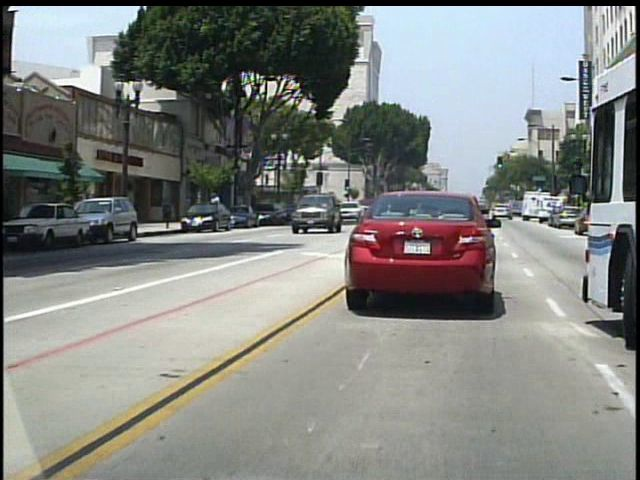person: (214, 190, 227, 224)
